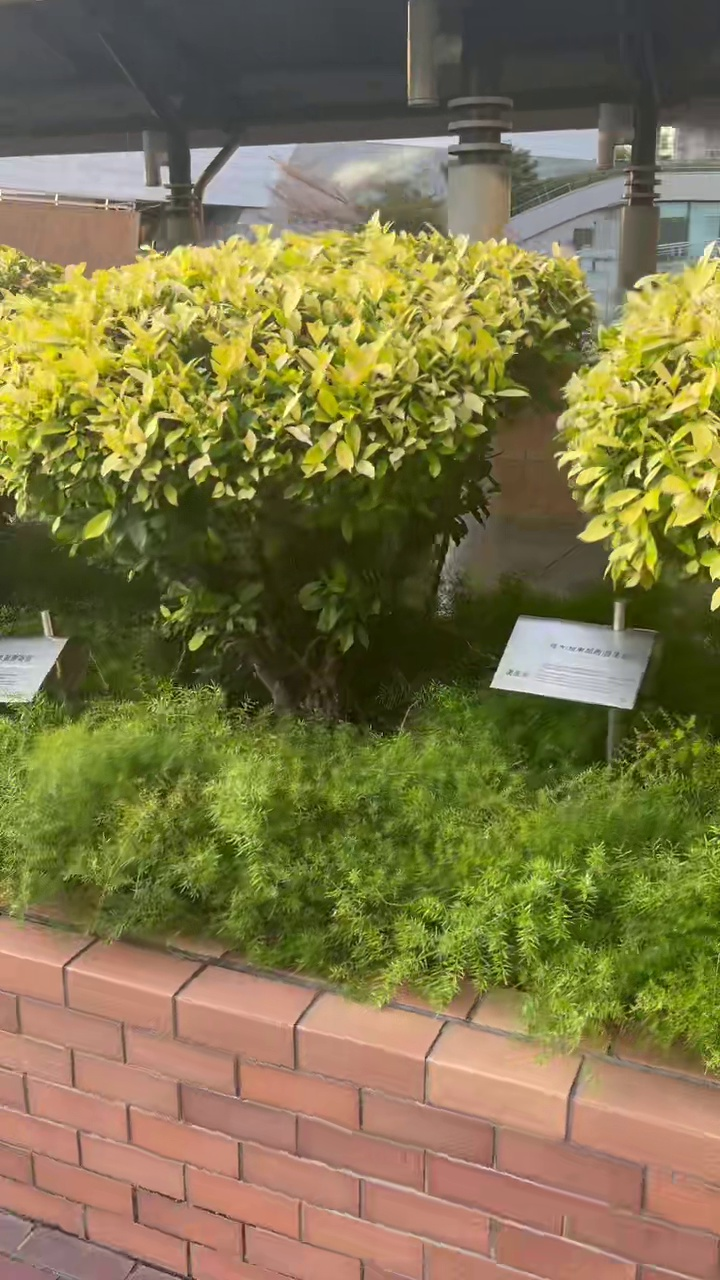Golden-leaves Fig: (0, 222, 589, 719)
